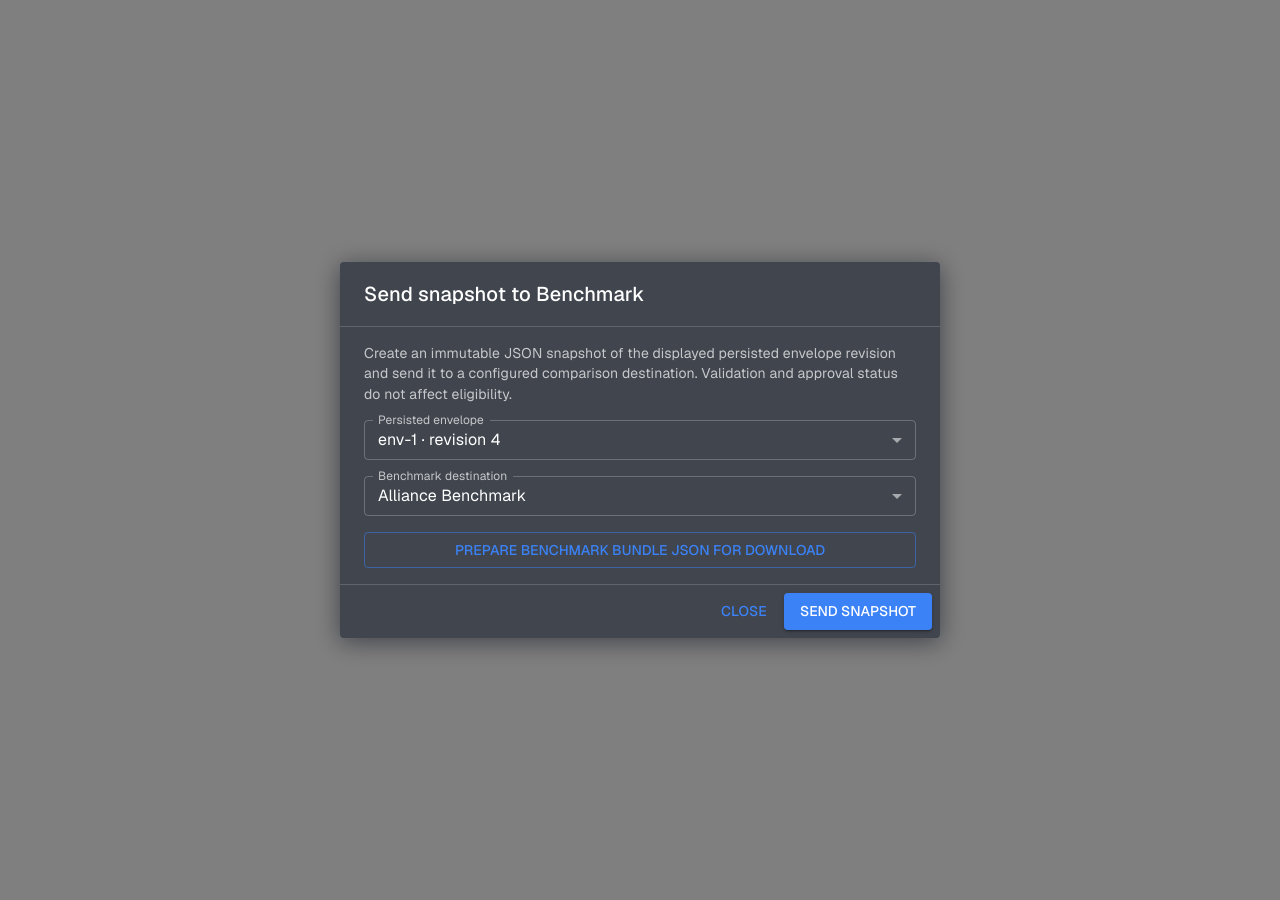
Test case: BenchmarkSnapshotDialog › sends the displayed persisted revision and reveals destination navigation only on success
Expected: the dialog "Send snapshot to Benchmark" is shown, [340, 262, 940, 638]
Expected: the link "Open Benchmark" is not shown
Click the button "Send snapshot" at (858, 611), box [784, 593, 932, 630]
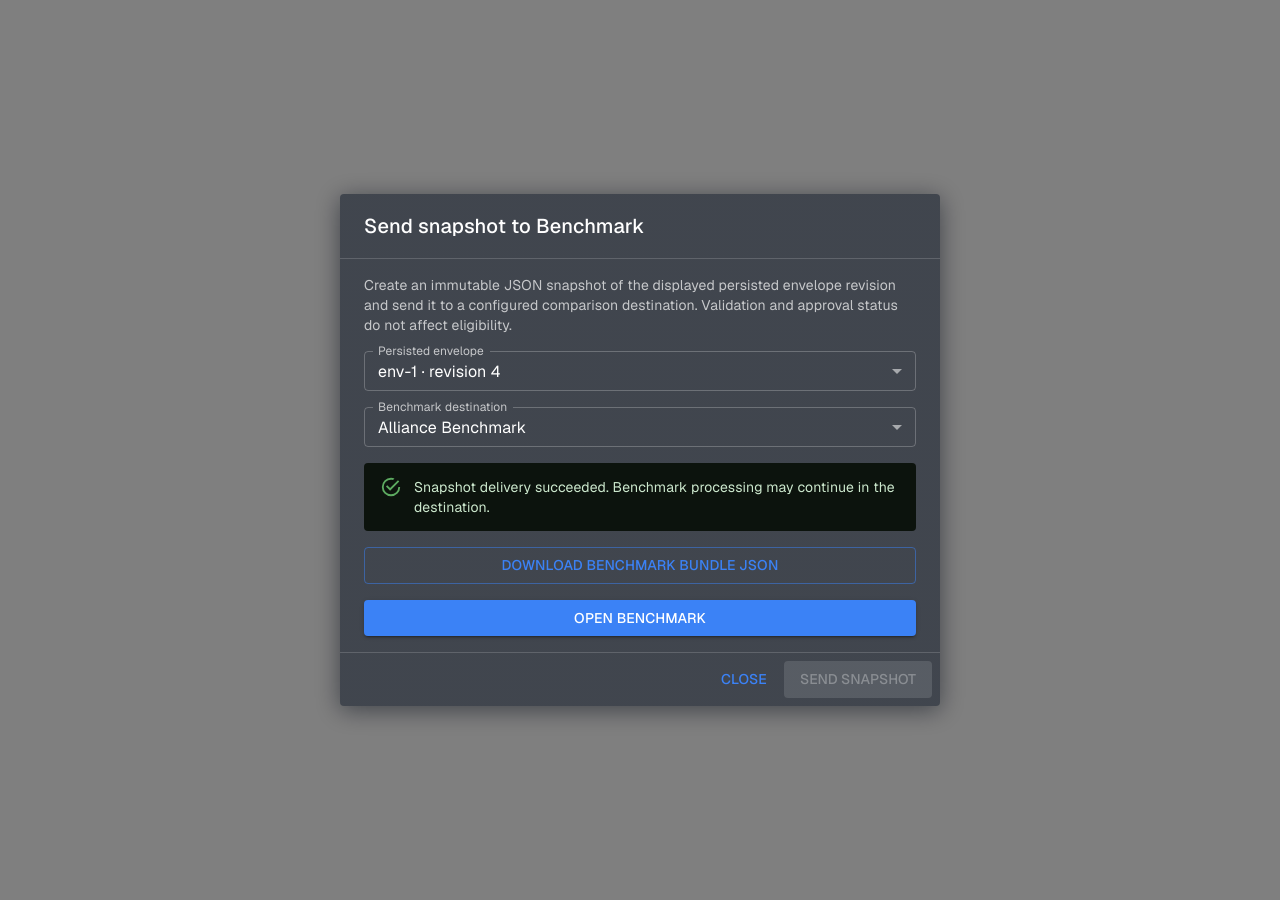
Now the text "Snapshot delivery succeeded" is shown, box [414, 478, 895, 516]
